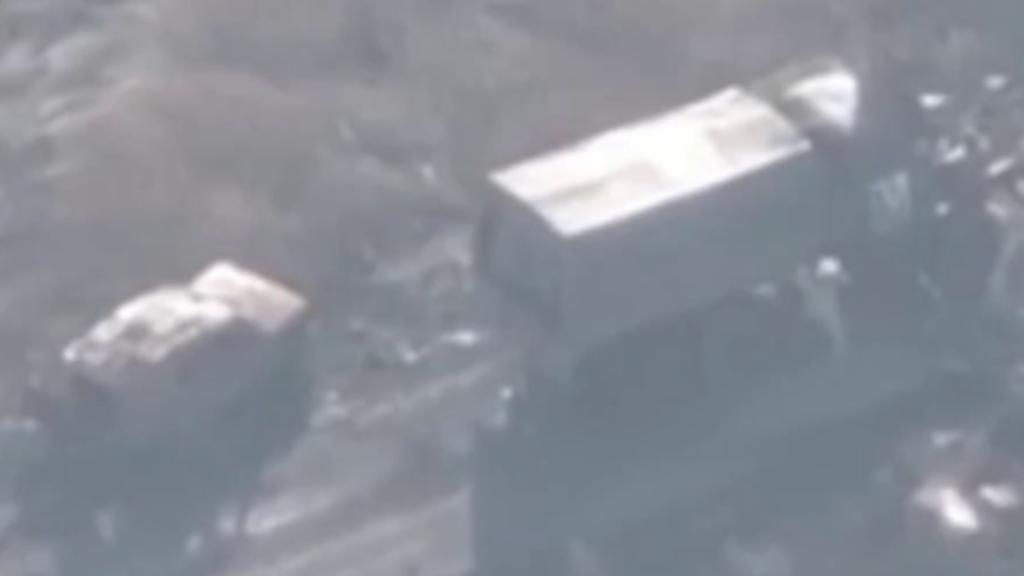CAR: (60, 253, 318, 442)
TRUCK: (472, 43, 948, 397)
